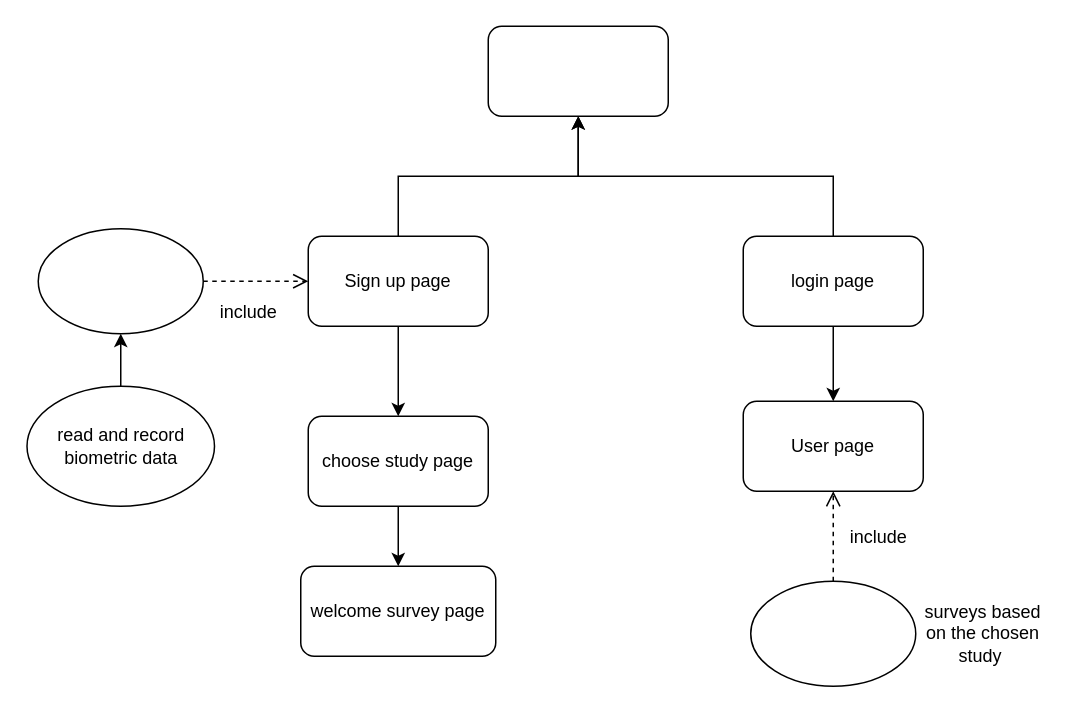
Image size: 1076x713. Some labels were removed from this diagram. Each missing label, with the centre of its shape:
"connect to fitbit" goes at [120,280].
"Surveys" goes at [832,633].
"welcome page" goes at [577,70].
